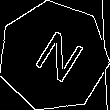N_SW: (23, 24, 84, 89)
